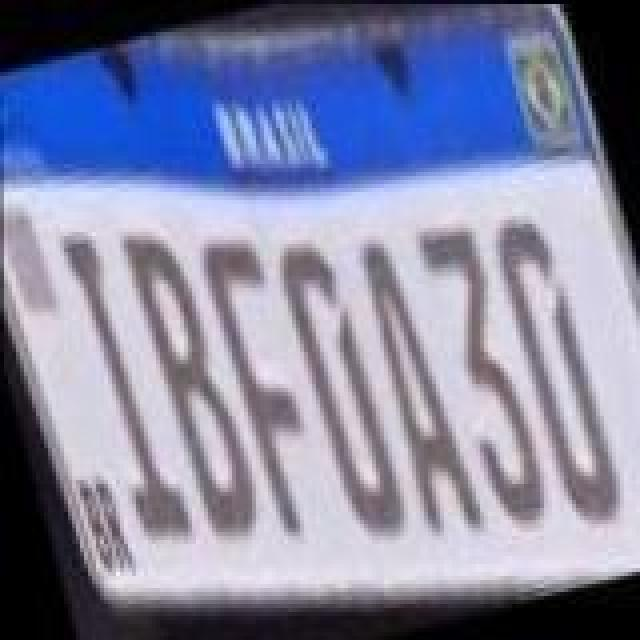3: (412, 208, 552, 544)
A: (352, 228, 488, 548)
B: (120, 212, 272, 556)
D: (486, 198, 630, 538), (270, 220, 410, 552)
F: (200, 222, 336, 550)
I: (60, 220, 196, 556)
